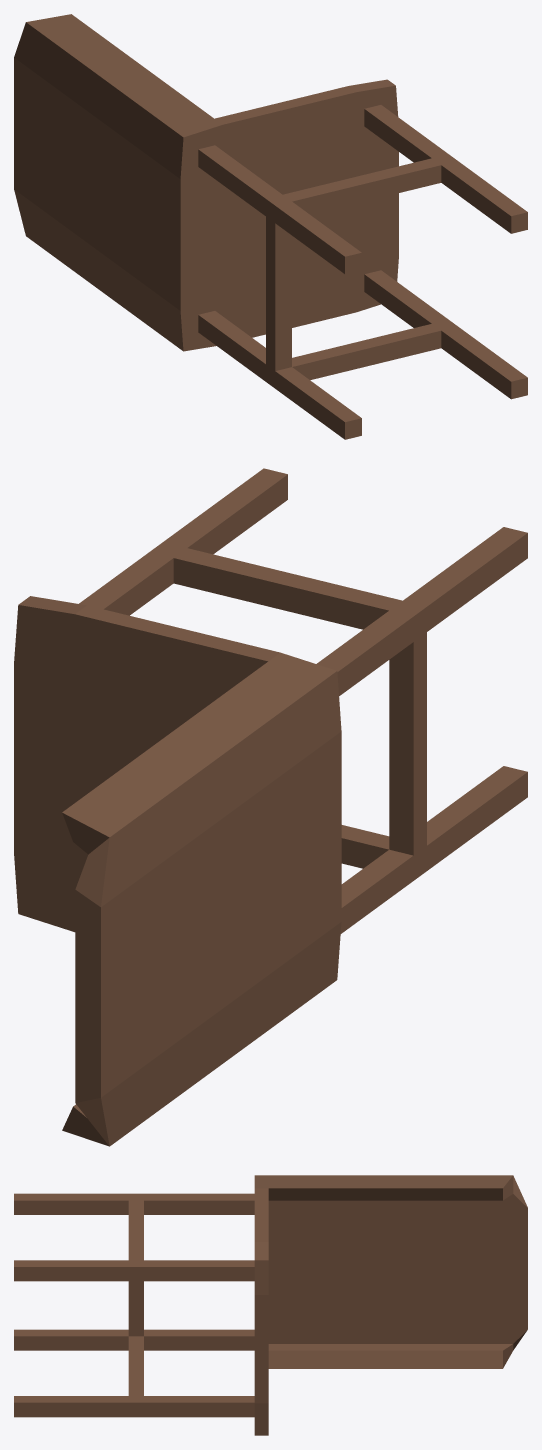
The model's file is m_chair.fbx.
The picture shows the model from 3 angles, top to bottom: view 1: azimuth 30°, elevation 25°; view 2: azimuth 150°, elevation 25°; view 3: azimuth 270°, elevation 25°; orthographic projection. The views are drawn at different scales.
Parts seen in each view (by area): view 1: m_chair; view 2: m_chair; view 3: m_chair.
Part boxes in pixels (x1,y1,x2,y2): m_chair: (14, 14, 527, 439); m_chair: (14, 468, 527, 1146); m_chair: (14, 1175, 527, 1435).
Size of the model in its own units: 40.98 by 39.49 by 102.
